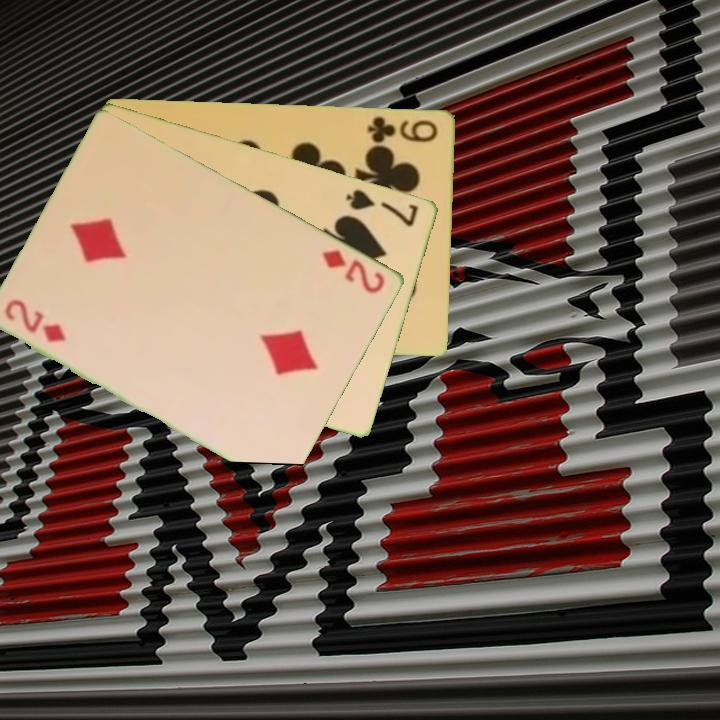2d: (318, 246, 389, 297), (1, 296, 70, 346)
7s: (343, 185, 422, 229)
9c: (364, 112, 440, 145)
